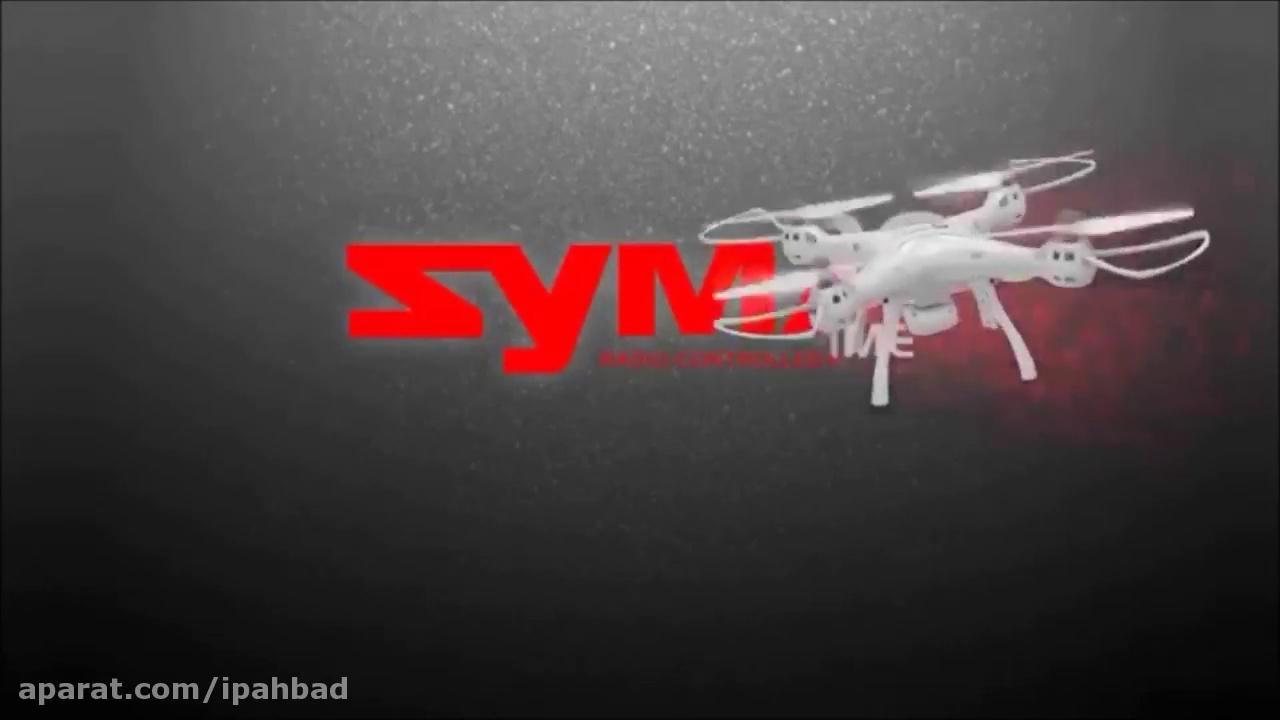drone: (696, 148, 1210, 409)
